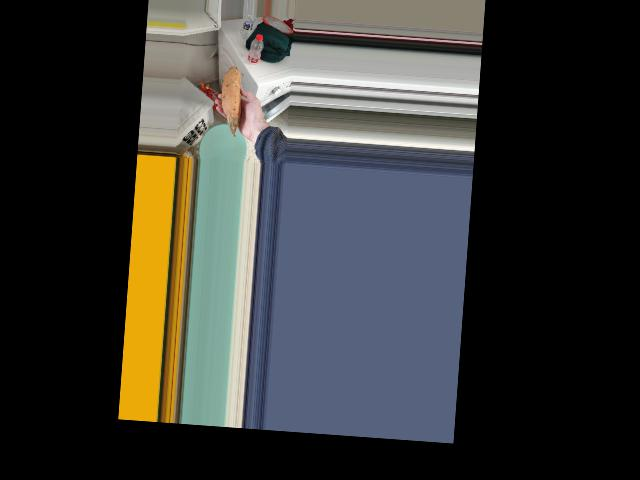sweet_potato: (219, 65, 245, 134)
